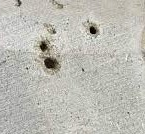Spalling: (81, 20, 100, 37), (43, 56, 56, 71), (43, 23, 57, 35), (48, 1, 64, 10), (38, 41, 49, 52), (14, 1, 22, 7)
